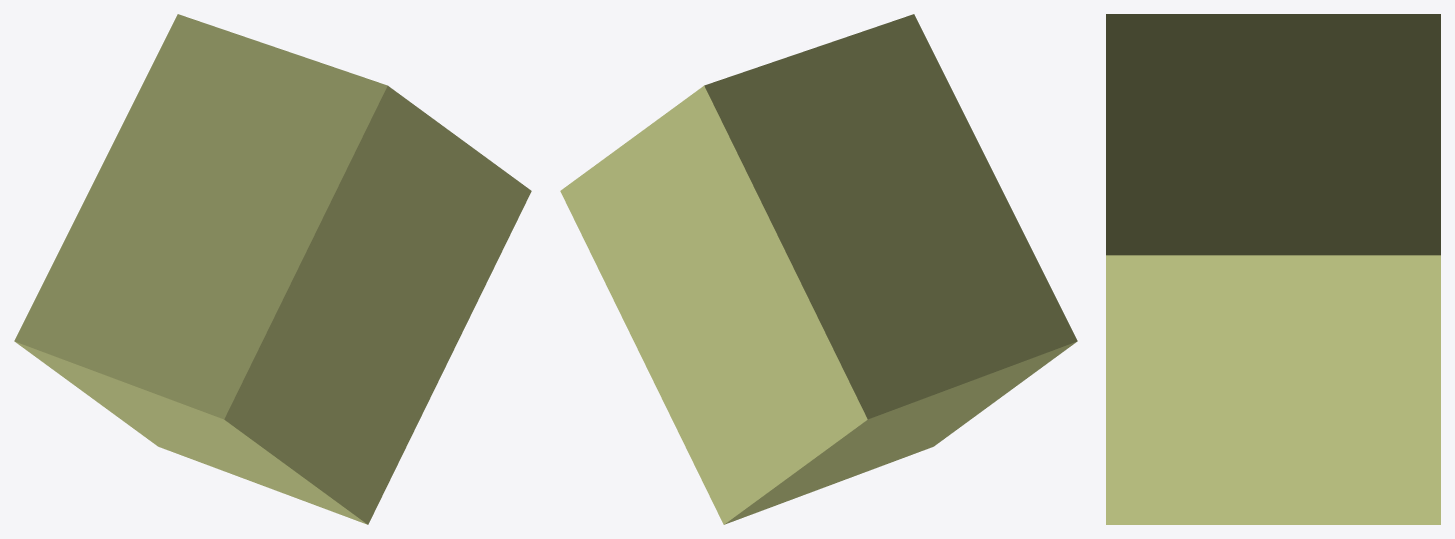
The picture shows the model from 3 angles, left to right: view 1: azimuth 30°, elevation 25°; view 2: azimuth 150°, elevation 25°; view 3: azimuth 270°, elevation 25°; orthographic projection. The views are drawn at different scales.
Visible parts, largest first — view 1: 0_1_1_3_3_1_0_2_3_0_1; view 2: 0_1_1_3_3_1_0_2_3_0_1; view 3: 0_1_1_3_3_1_0_2_3_0_1.
Part boxes in pixels (box(x1,y1,x2,y2)): 0_1_1_3_3_1_0_2_3_0_1: box(14, 14, 531, 524); 0_1_1_3_3_1_0_2_3_0_1: box(560, 14, 1077, 524); 0_1_1_3_3_1_0_2_3_0_1: box(1106, 14, 1440, 524).
Size of the model in its own units: 8.99 by 9.58 by 6.
